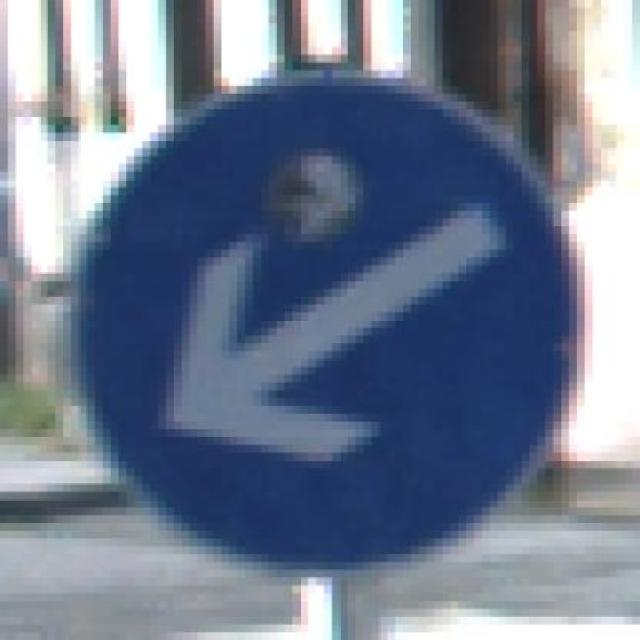Keep-Left: (39, 55, 608, 593)
